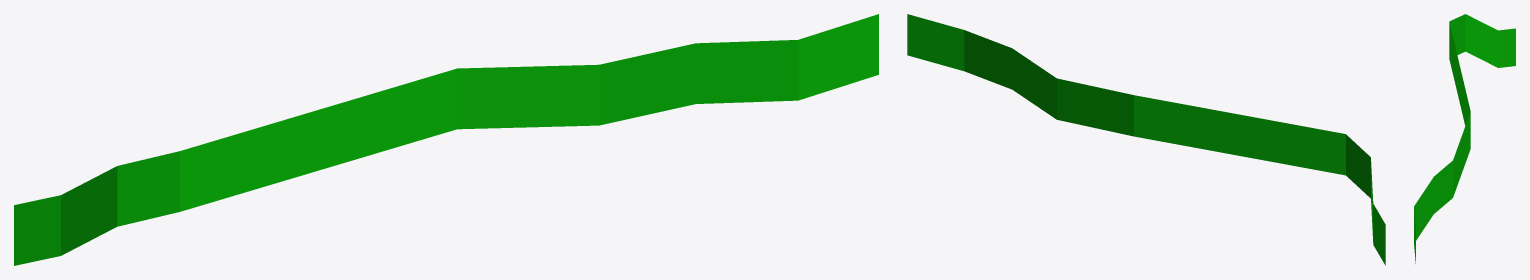
The model's file is M8_Idiot_Stopper_08.glb.
3 renders of one model, left to right at view 1: azimuth 30°, elevation 25°; view 2: azimuth 150°, elevation 25°; view 3: azimuth 270°, elevation 25°, orthographic. The views are drawn at different scales.
Visible parts, largest first — view 1: M8_IDIOT_STOPPER_08; view 2: M8_IDIOT_STOPPER_08; view 3: M8_IDIOT_STOPPER_08.
Part boxes in pixels (x1=…): M8_IDIOT_STOPPER_08: x1=14, y1=14, x2=878, y2=265; M8_IDIOT_STOPPER_08: x1=907, y1=14, x2=1385, y2=265; M8_IDIOT_STOPPER_08: x1=1414, y1=14, x2=1515, y2=263.
Bounding box in the file's own units: 101 × 15.66 × 18.44.
